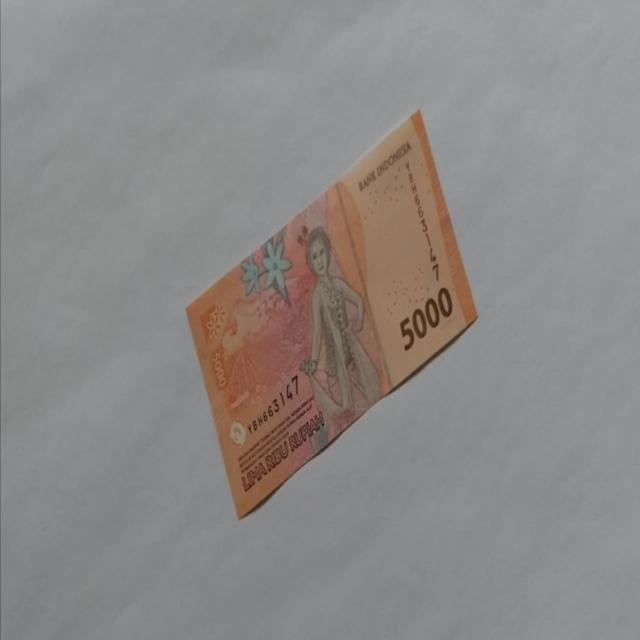lima ribu rupiah: (184, 107, 478, 520)
